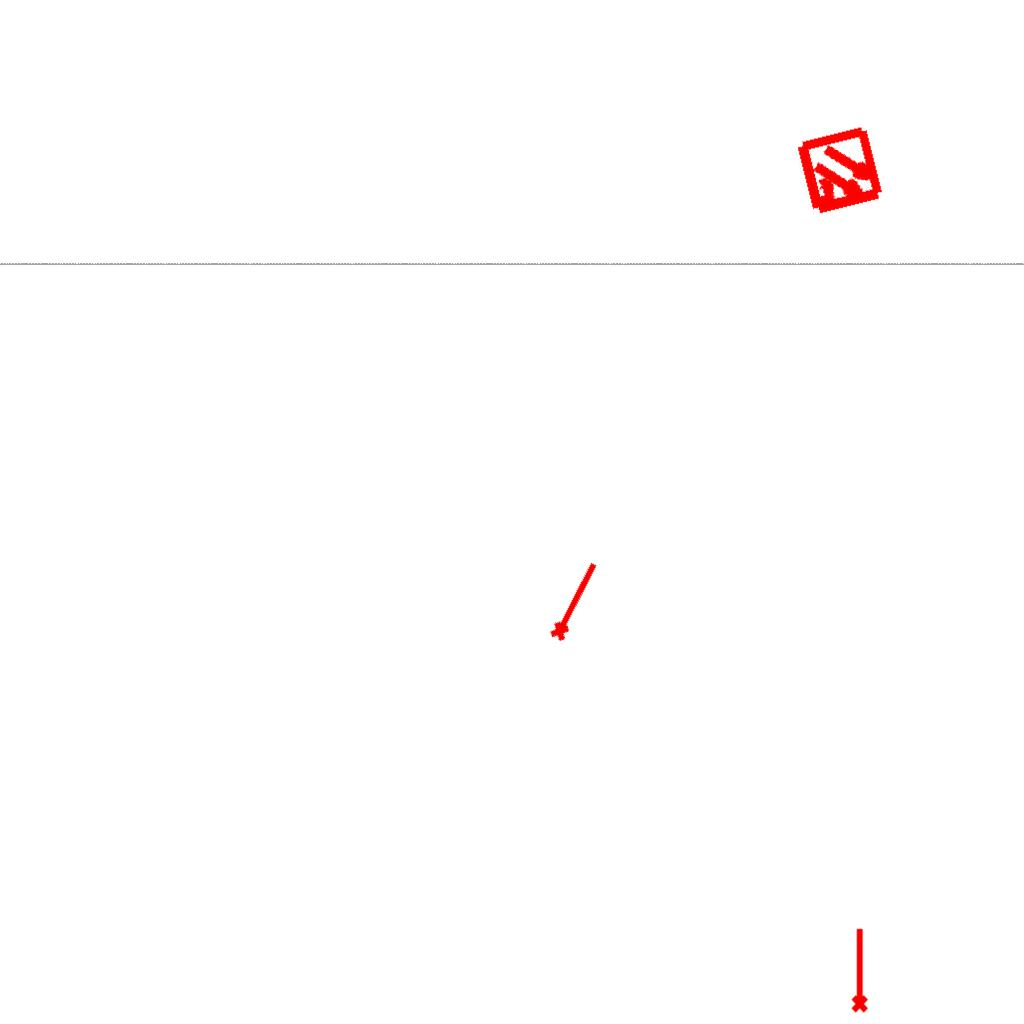ASR_Ansaugoeffnung: (543, 556, 605, 645), (847, 926, 870, 1014)
OT_Multisensormelder_(Kombination_RMO_WMD): (772, 104, 909, 241)
